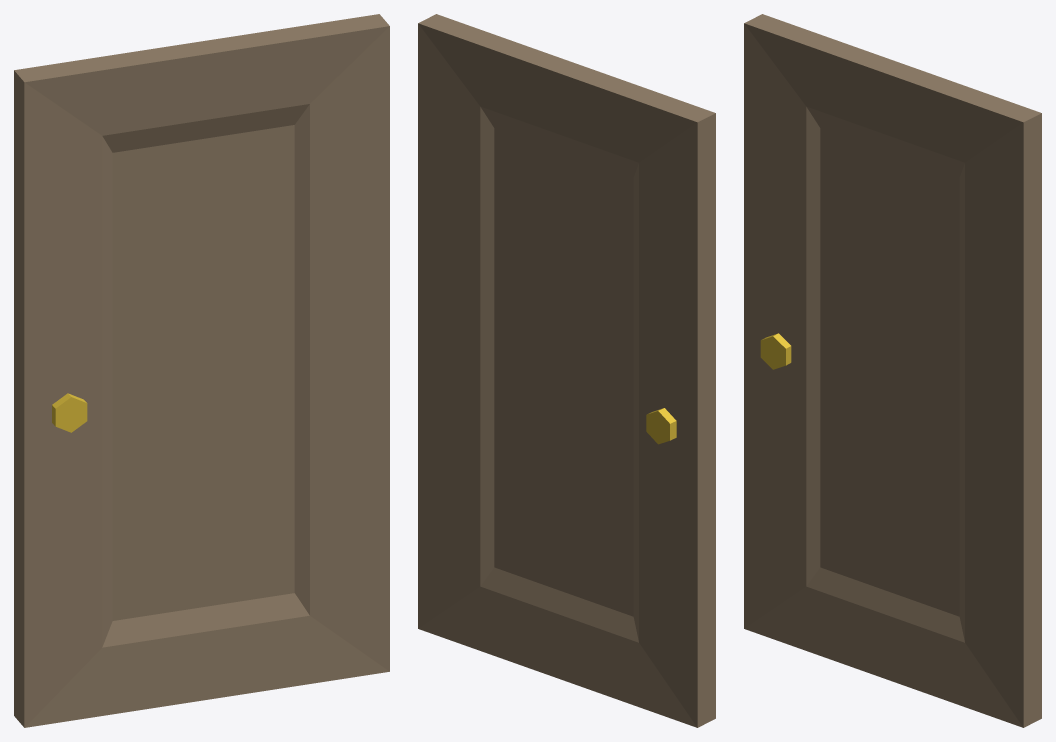
Rendered from Door with animation.fbx.
The picture shows the model from 3 angles, left to right: view 1: azimuth 30°, elevation 25°; view 2: azimuth 150°, elevation 25°; view 3: azimuth 330°, elevation 25°; orthographic projection. The views are drawn at different scales.
Parts seen in each view (by area): view 1: pasted__pCube1, pasted__pCylinder1; view 2: pasted__pCube1, pCylinder1; view 3: pasted__pCube1, pasted__pCylinder1.
Part boxes in pixels (x1,y1,x2,y2): pasted__pCube1: [14, 14, 389, 727]; pasted__pCylinder1: [52, 393, 87, 432]; pasted__pCube1: [418, 14, 715, 727]; pCylinder1: [646, 408, 676, 444]; pasted__pCube1: [744, 14, 1041, 727]; pasted__pCylinder1: [760, 333, 791, 369].
Bounding box in the file's own units: 2.36 × 4.33 × 0.6162.
